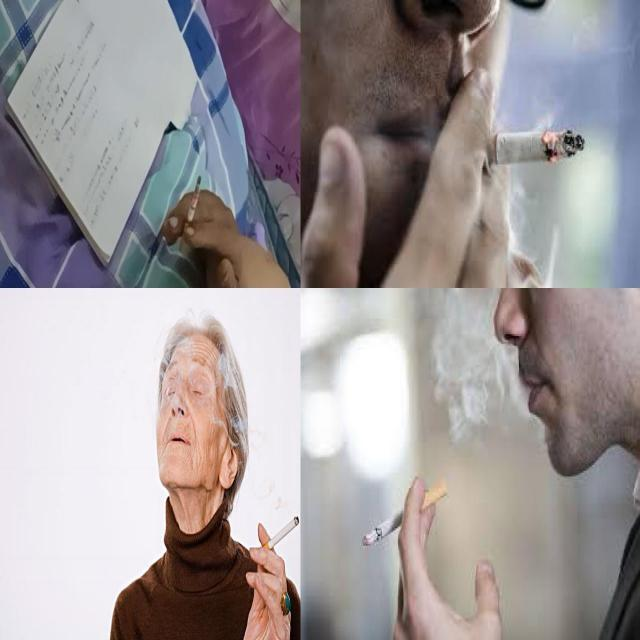smoking: (362, 480, 449, 548), (449, 130, 586, 170), (178, 176, 202, 254), (257, 516, 300, 552)
